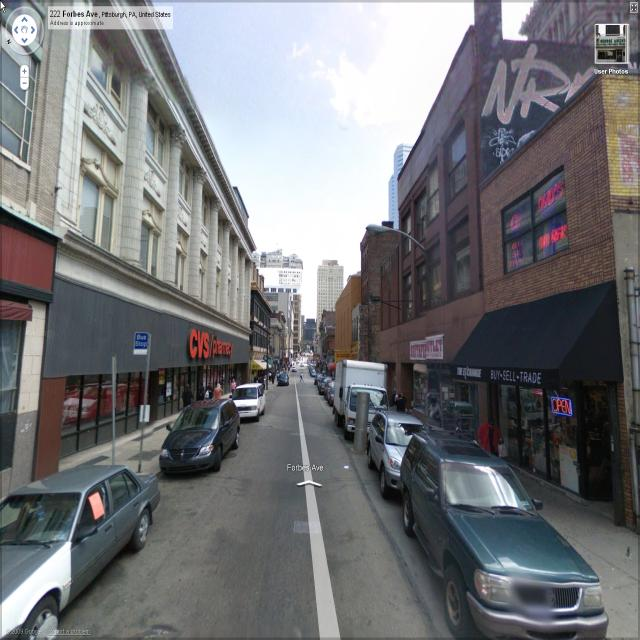b_1: (72, 2, 246, 364), (491, 124, 640, 480), (406, 37, 498, 407), (1, 3, 64, 366), (362, 226, 410, 401), (325, 273, 373, 376), (307, 248, 348, 328), (379, 142, 413, 230)
